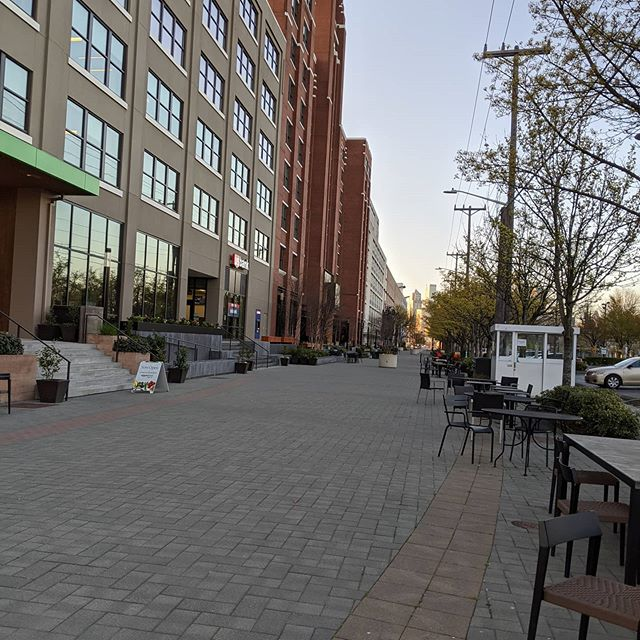building: (1, 1, 312, 372), (306, 1, 345, 345), (342, 147, 385, 351)
chair: (522, 515, 640, 640), (542, 462, 627, 544), (442, 397, 490, 471), (414, 367, 448, 412)
dirt: (1, 374, 480, 640)
sky: (357, 1, 500, 241)
table: (496, 399, 582, 473)
vegetation: (420, 41, 640, 357)
